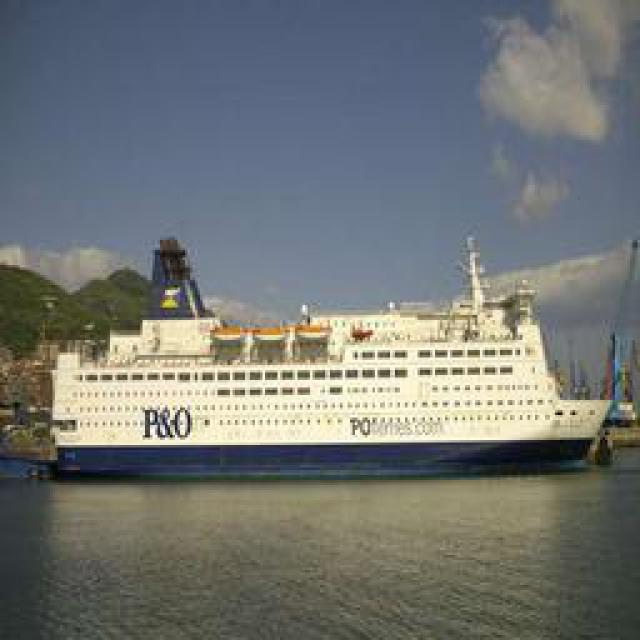Ship: (35, 235, 615, 468)
